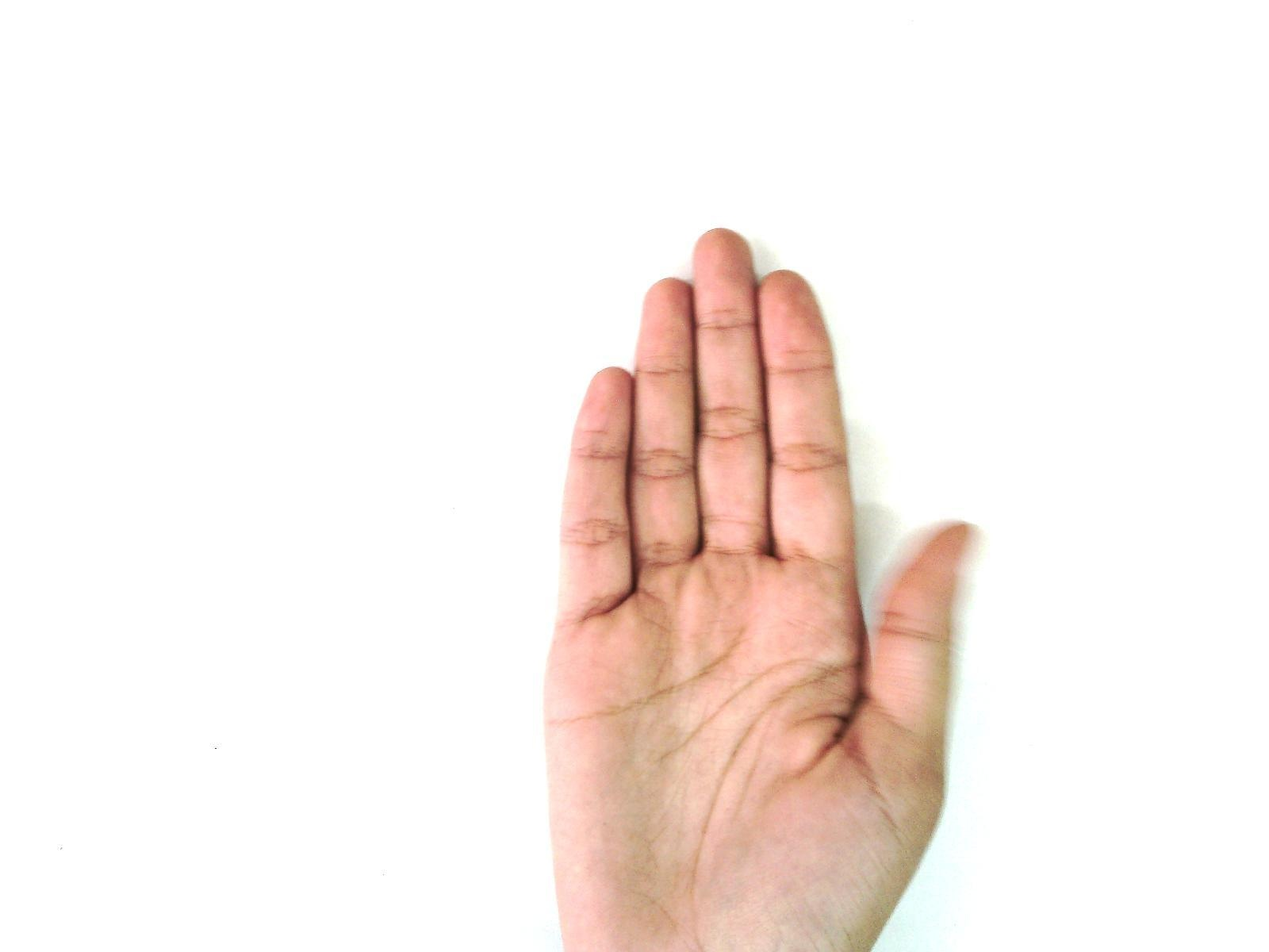open_palm: (539, 227, 983, 951)
